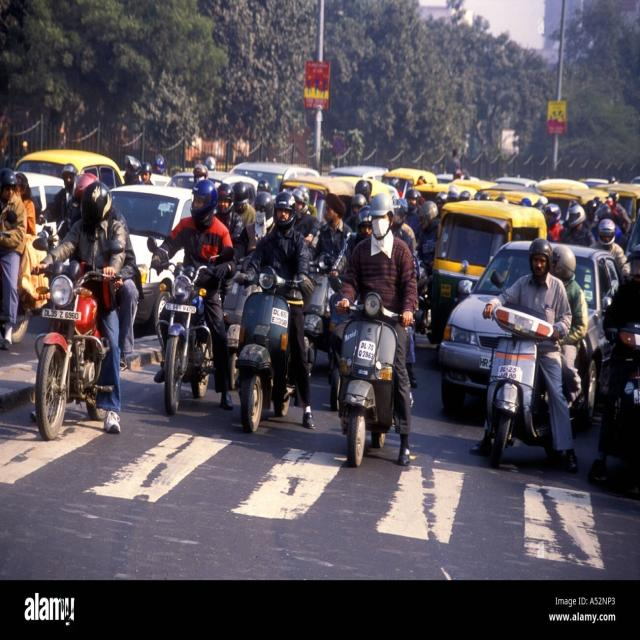autorickshaw: (431, 200, 546, 341)
car: (439, 241, 530, 412), (111, 184, 191, 323)
motorcycle: (35, 174, 139, 440), (470, 239, 588, 473), (336, 193, 418, 466), (151, 179, 235, 415), (238, 191, 315, 432)
